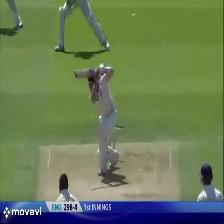batsman: (73, 61, 127, 176)
